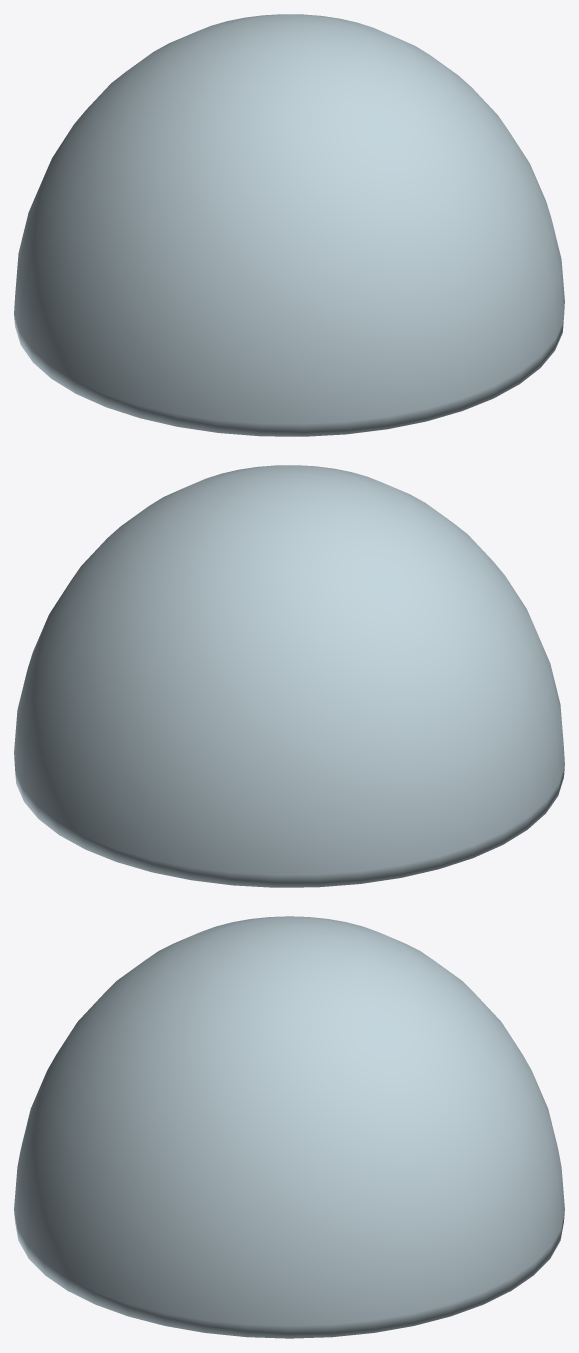
Rendered from helmet.glb.
3 views of the same model, one above another, from view 1: azimuth 30°, elevation 25°; view 2: azimuth 150°, elevation 25°; view 3: azimuth 270°, elevation 25° (orthographic).
Visible parts, largest first — view 1: glass; view 2: glass; view 3: glass.
Part boxes in pixels (x1,y1,x2,y2): glass: [14, 14, 564, 436]; glass: [14, 465, 564, 887]; glass: [14, 916, 564, 1338].
Bounding box in the file's own units: 2.26 × 1.28 × 2.26.
